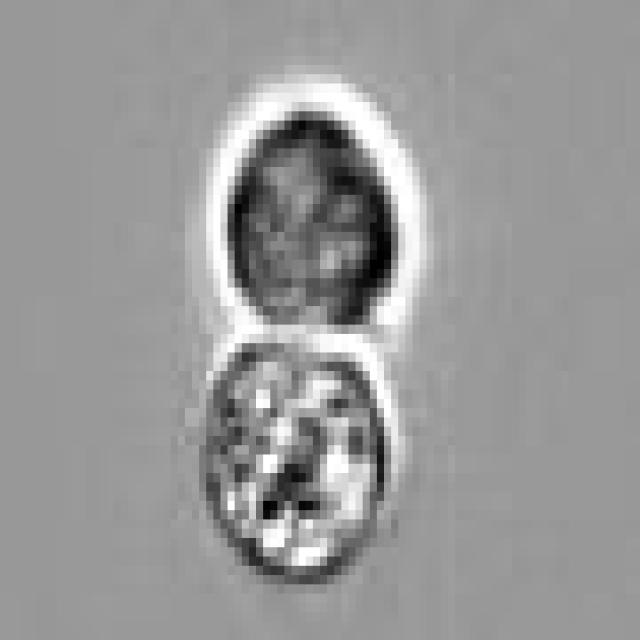Cancer Cell: (199, 334, 391, 575)
WBC: (228, 102, 398, 334)
